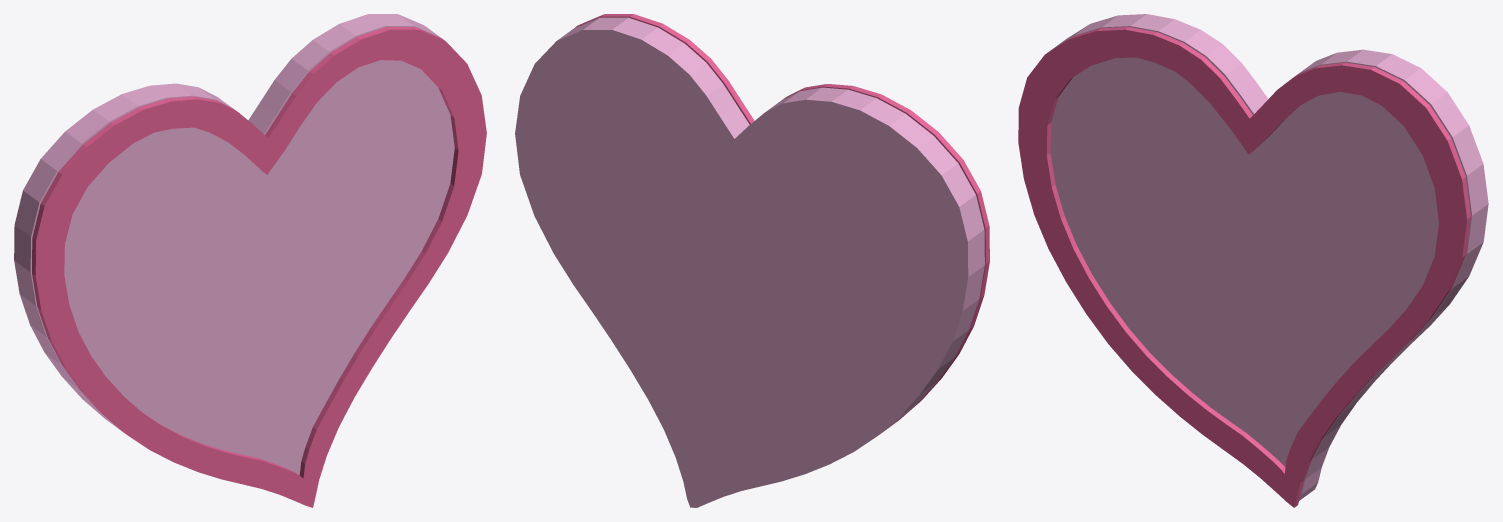
The model's file is LED_heart.fbx.
3 renders of one model, left to right at view 1: azimuth 30°, elevation 25°; view 2: azimuth 150°, elevation 25°; view 3: azimuth 330°, elevation 25°, orthographic.
Parts seen in each view (by area): view 1: heart, heart.001; view 2: heart, heart.001; view 3: heart, heart.001.
Part boxes in pixels (box(x1,y1,x2,y2)): heart: box(14, 14, 454, 475); heart.001: box(32, 27, 486, 507); heart: box(515, 17, 984, 507); heart.001: box(574, 14, 989, 422); heart: box(1050, 14, 1488, 500); heart.001: box(1018, 27, 1470, 507).
Bounding box in the file's own units: 204 × 199 × 16.95.
